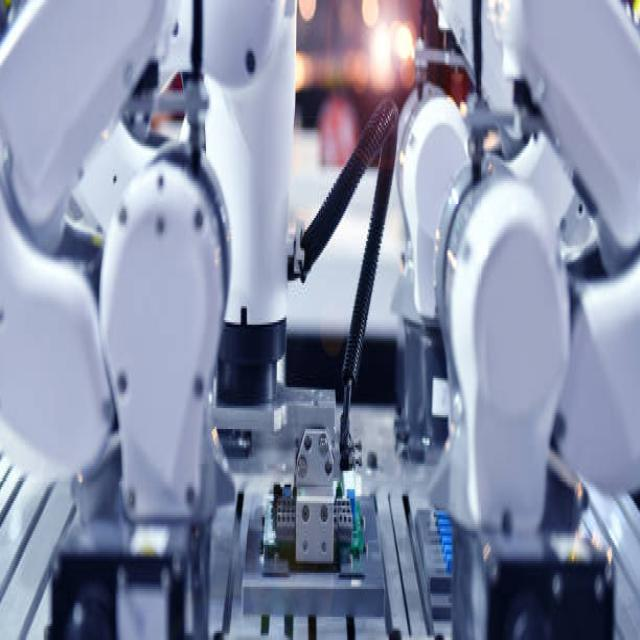Robotic-arm: (4, 0, 298, 640), (389, 0, 640, 640)
